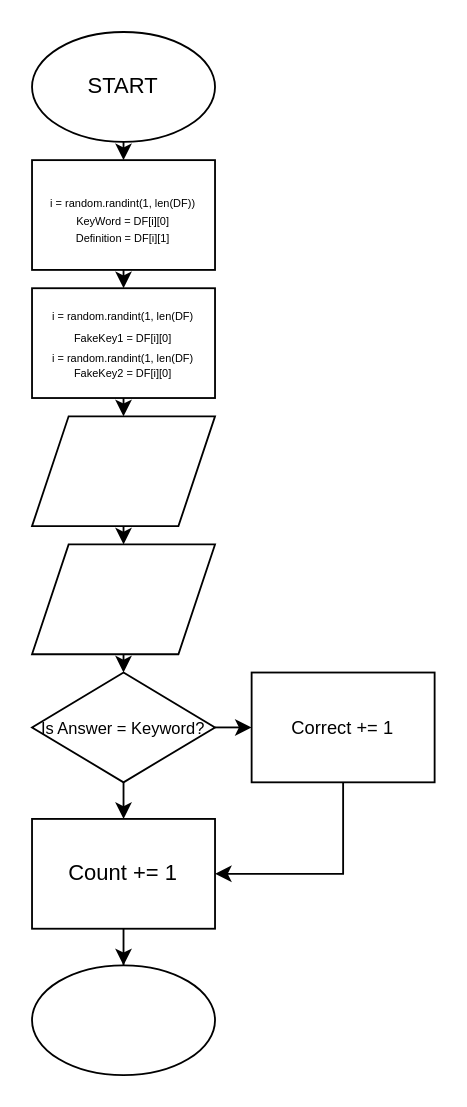
This 467x1107 diagram has some shape labels left out. Each missing label, with the box of its shape:
END: (30, 963, 215, 1075)
INPUT Answer: (30, 543, 215, 654)
OUTPUT Definition OUTPUT {KeyWord, FakeKey1, FakeKey2}: (30, 414, 215, 526)
